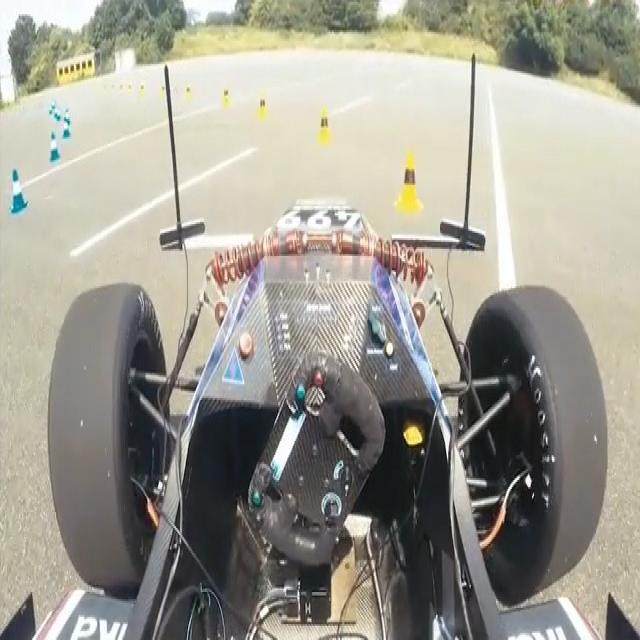blue_cone: (10, 166, 28, 216), (50, 130, 60, 164)
yellow_cone: (394, 150, 424, 214), (316, 106, 332, 148)
